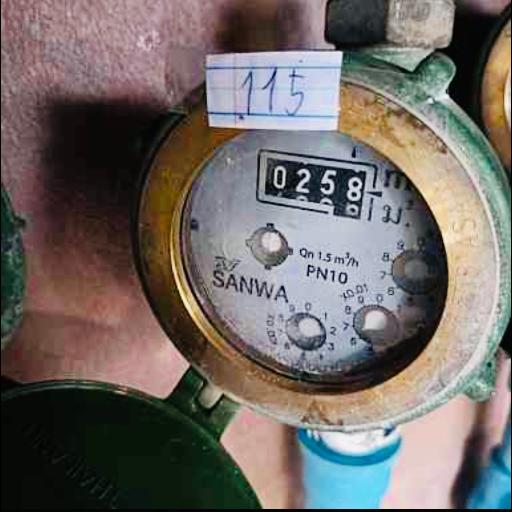0: (264, 158, 295, 199)
2: (289, 162, 319, 203)
5: (313, 164, 340, 206)
8: (334, 166, 368, 218)
border_water_meter_number: (251, 148, 379, 220)
